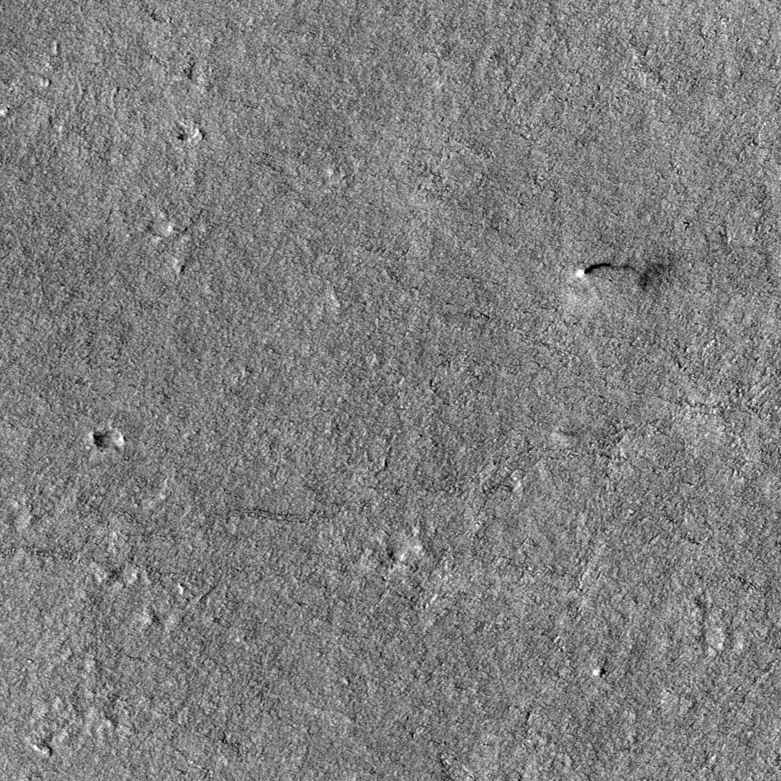dust_devil: (575, 257, 674, 295)
